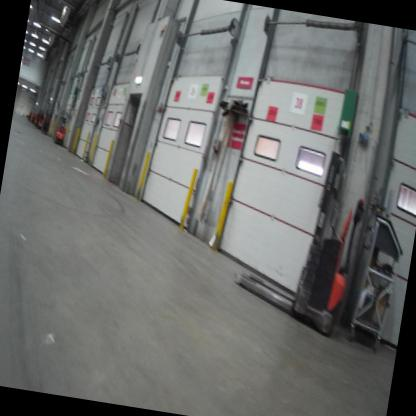pallet_truck: (224, 129, 378, 338), (52, 106, 73, 146), (40, 106, 54, 136), (34, 107, 49, 131)
